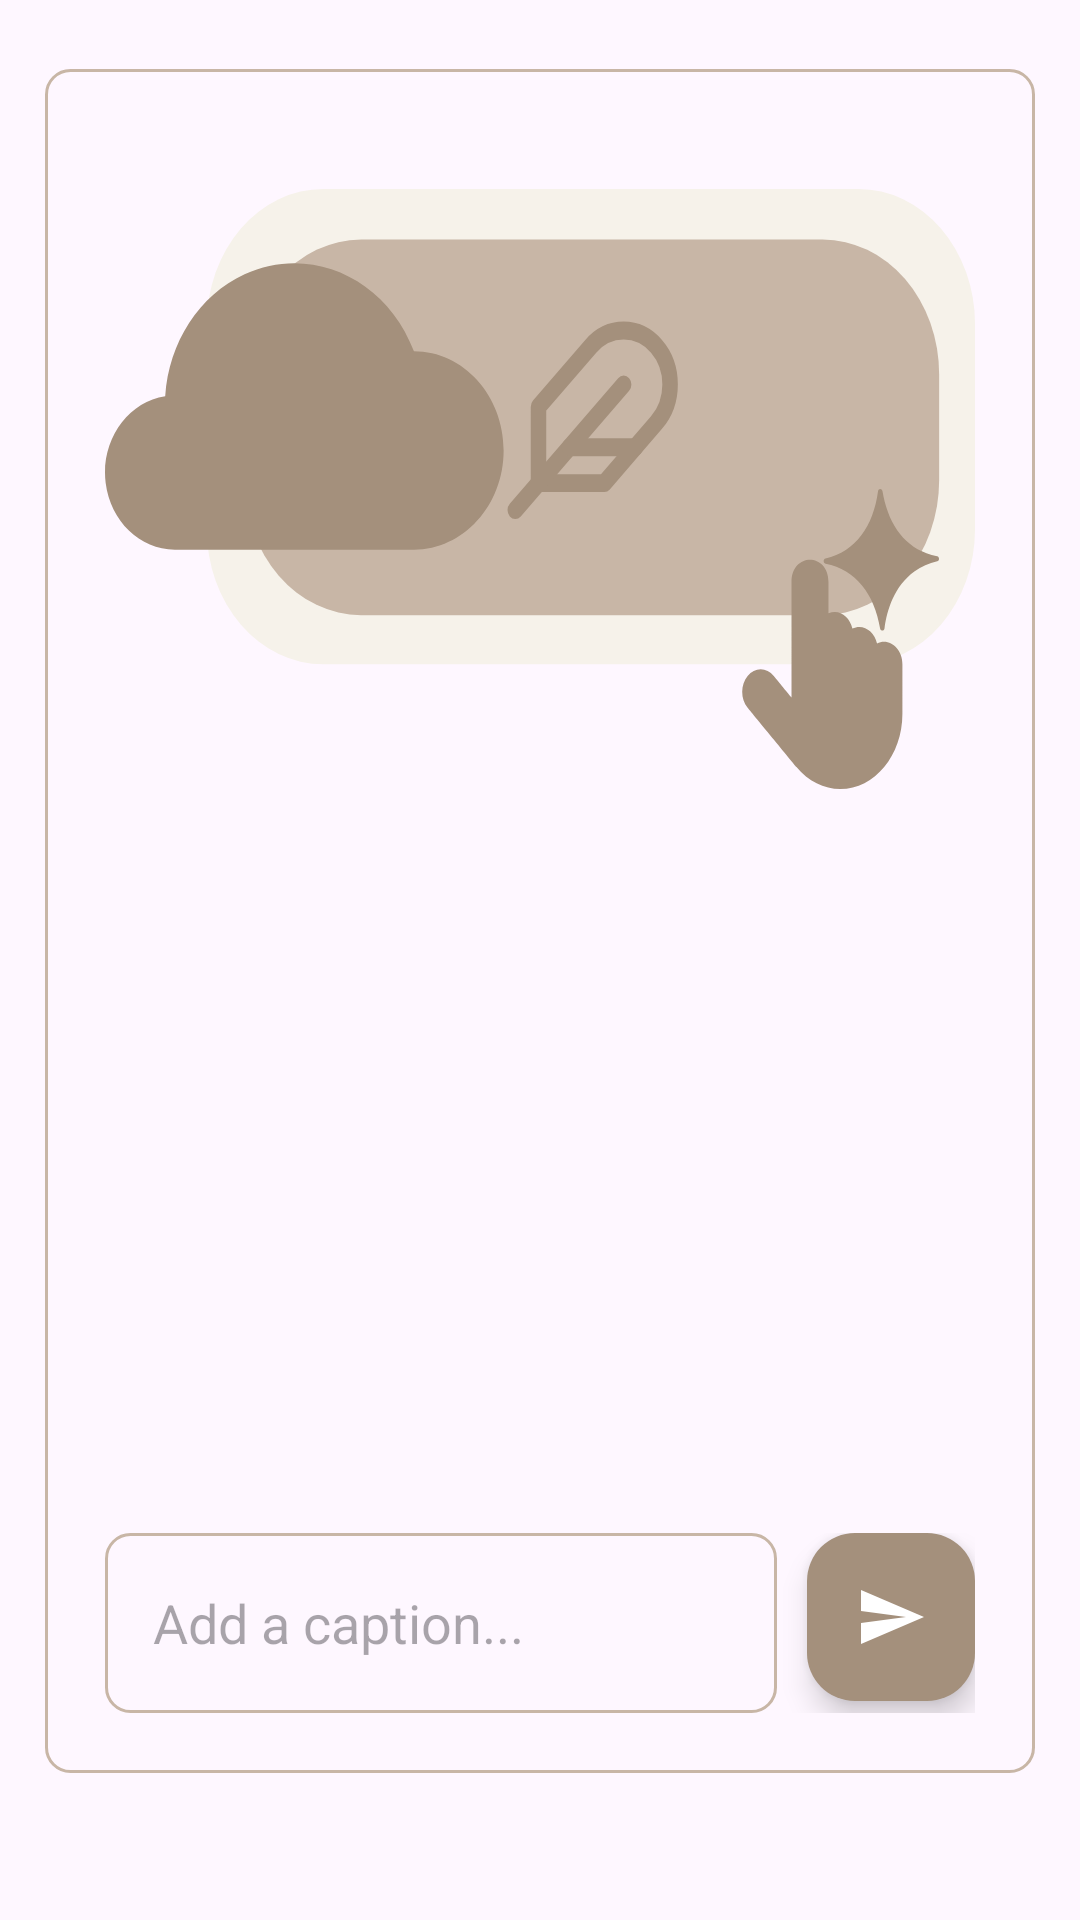

Where to tap for icons on this 1080*1920 app screen, as [x,y]:
send: [891,1617]
